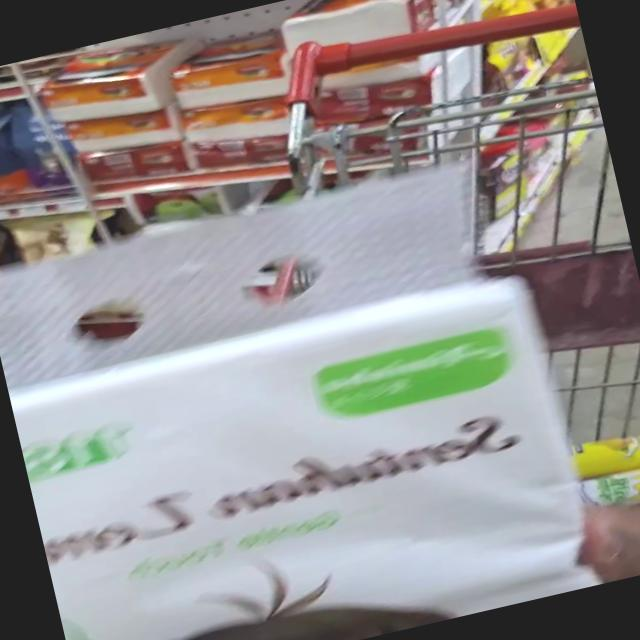Tisu: (0, 166, 570, 640)
